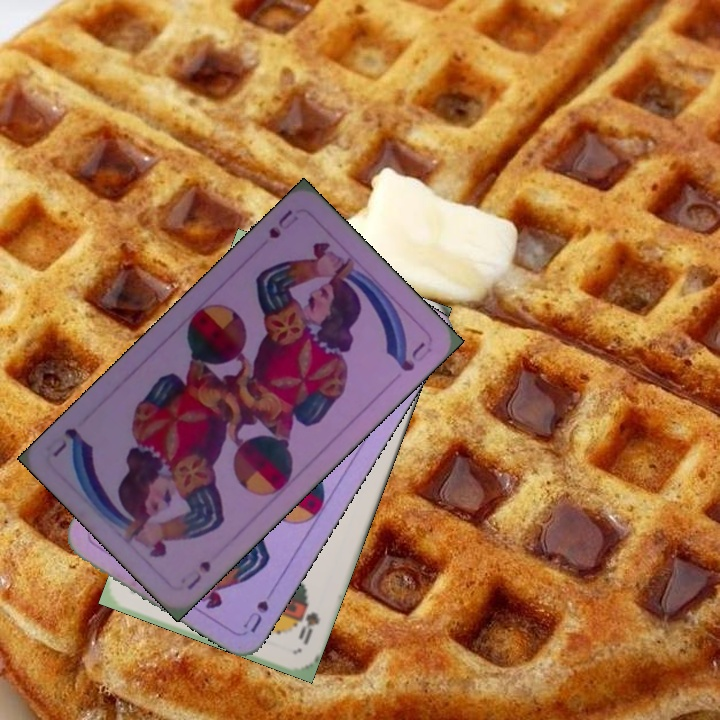SO: (294, 597, 323, 648)
SU: (179, 556, 214, 593), (239, 596, 271, 636), (264, 205, 296, 241)
